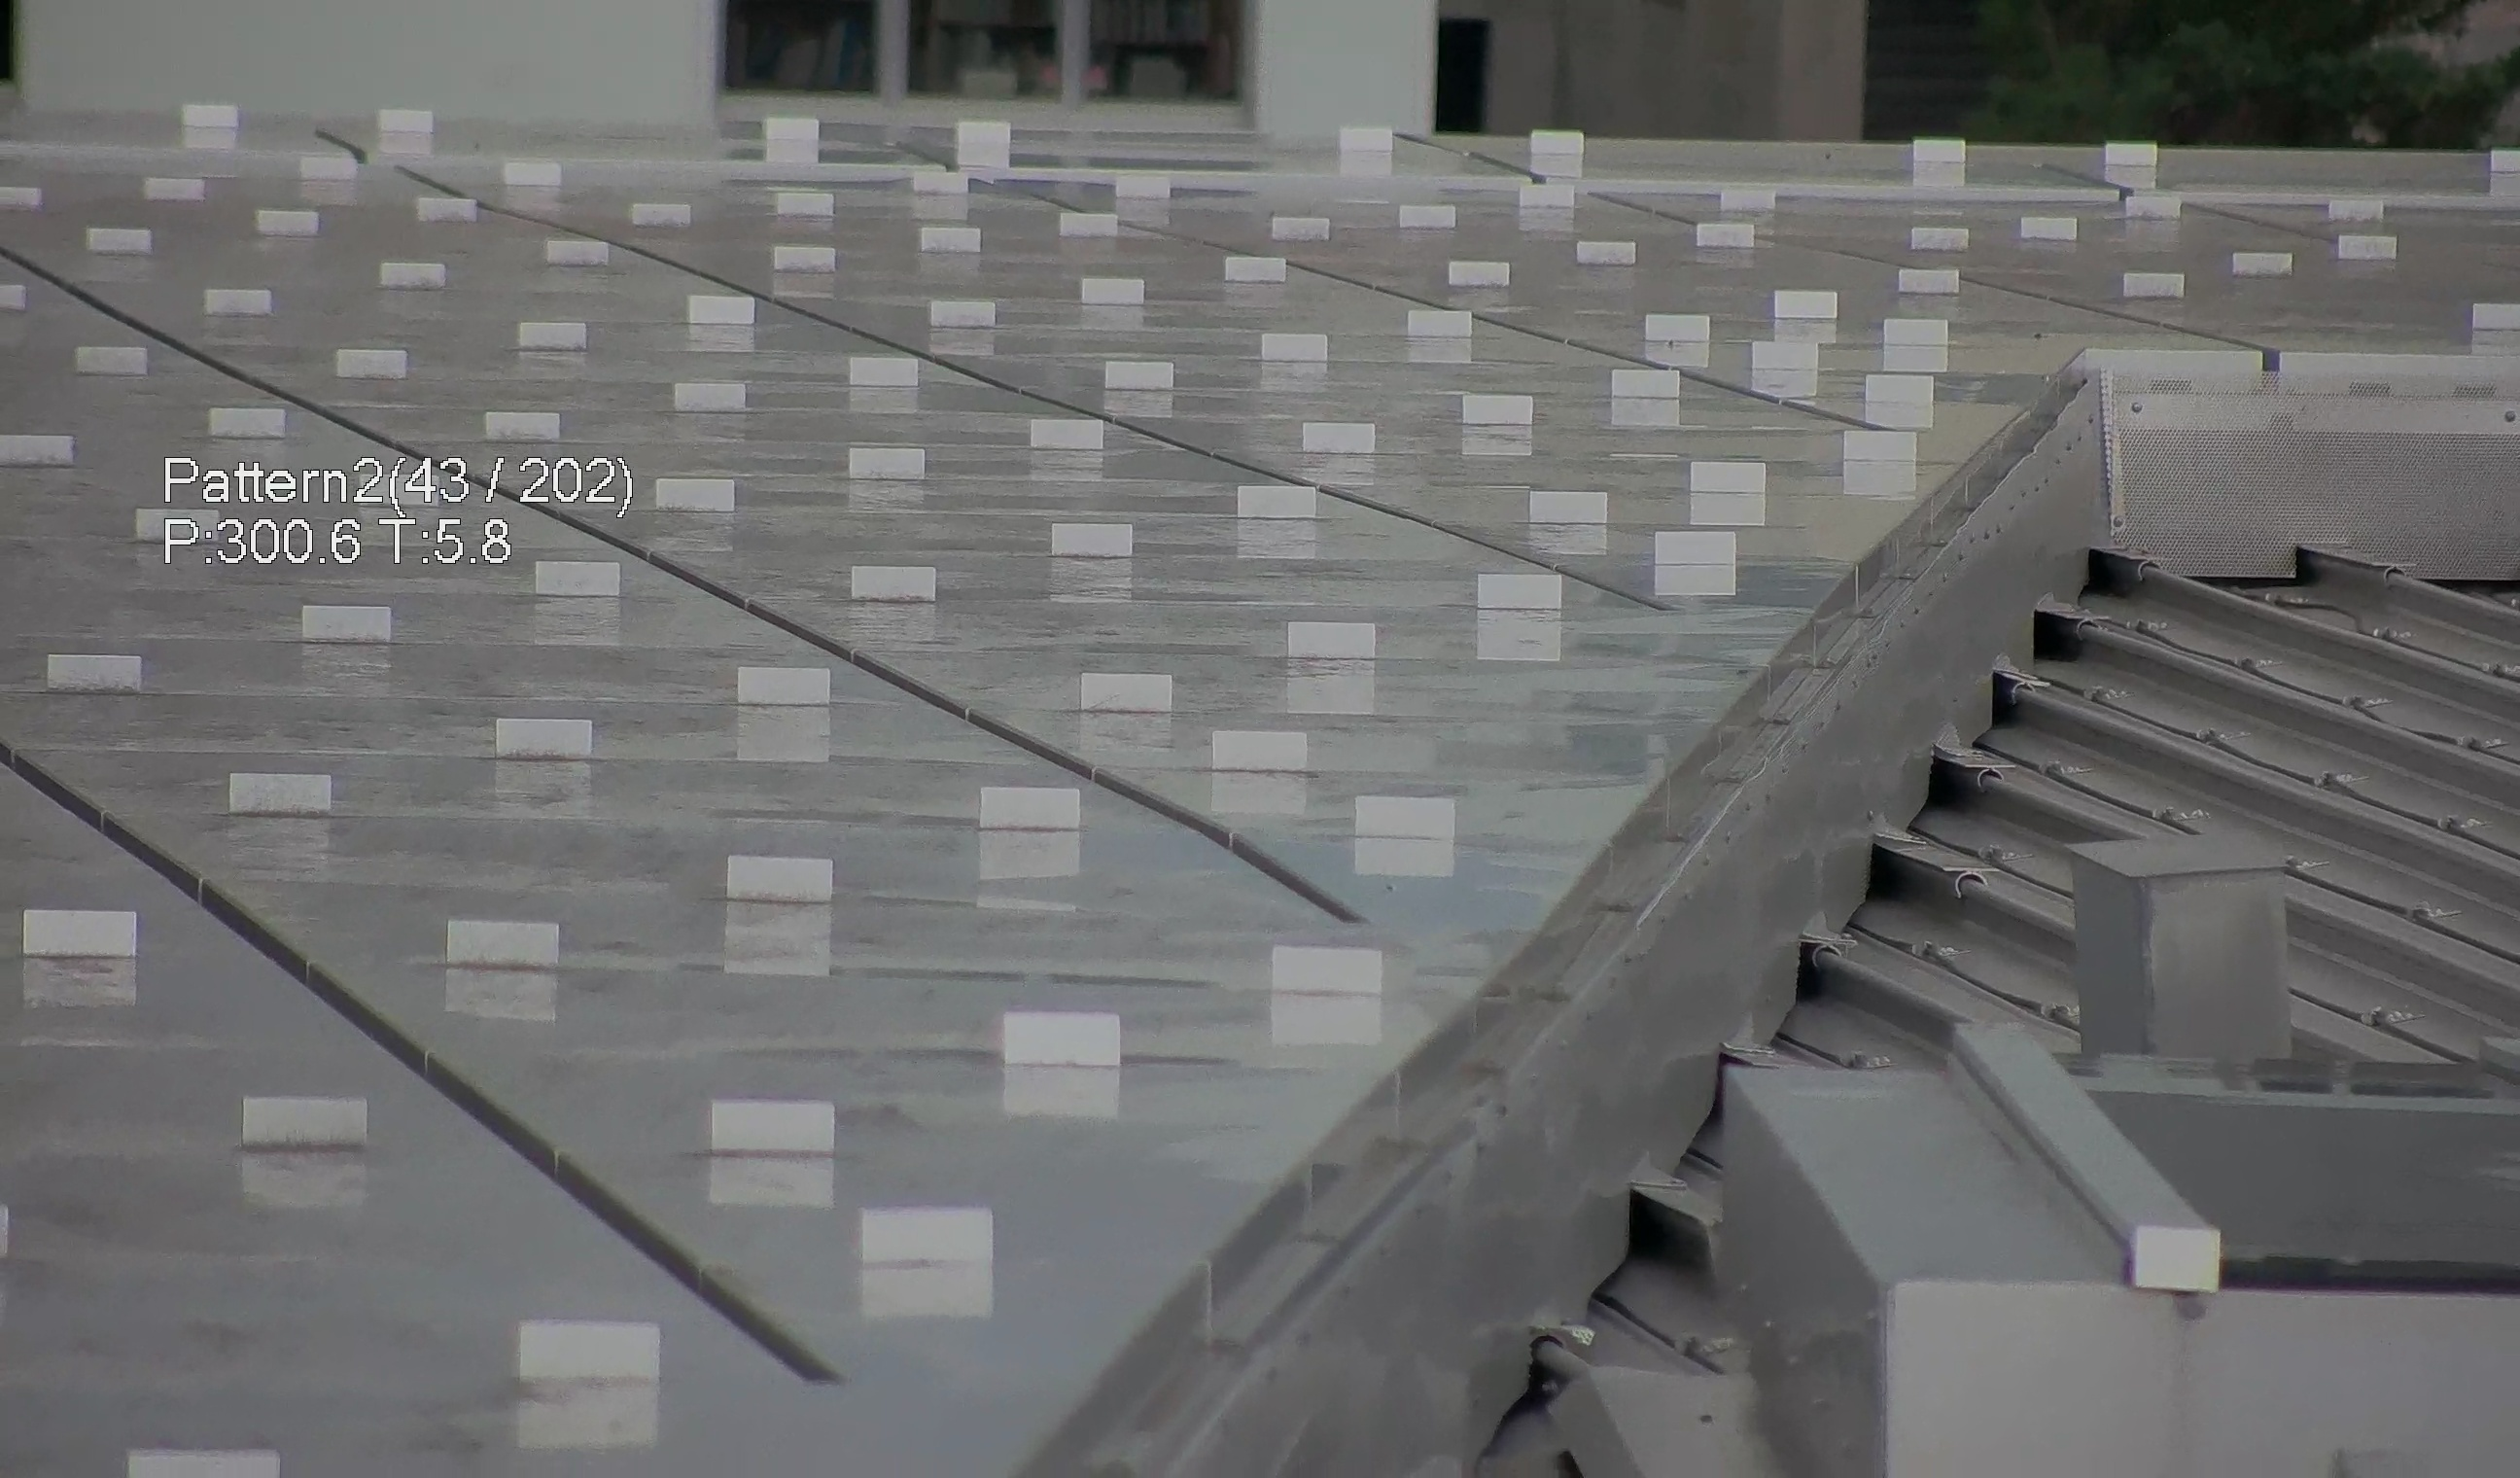Other: (1486, 1304, 1611, 1478)
